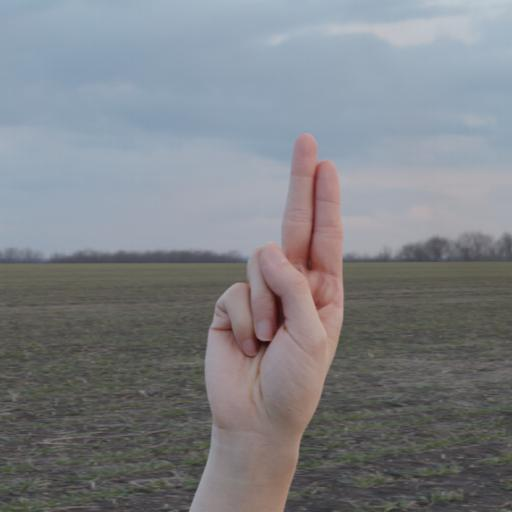U: (172, 124, 378, 448)
